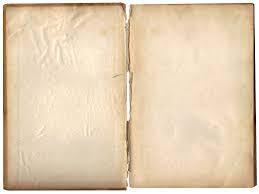Paper: (3, 4, 259, 194)
